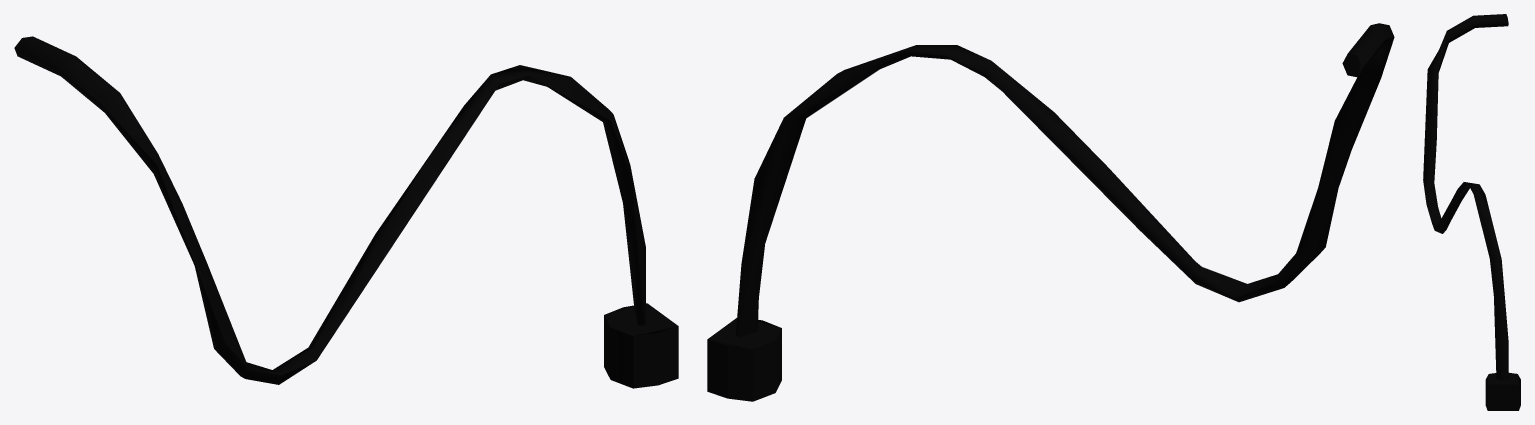
Rendered from powercord2_lod3.fbx.
The picture shows the model from 3 angles, left to right: view 1: azimuth 30°, elevation 25°; view 2: azimuth 150°, elevation 25°; view 3: azimuth 270°, elevation 25°; orthographic projection. The views are drawn at different scales.
Parts seen in each view (by area): view 1: cord5, plug5; view 2: cord5, plug5; view 3: cord5, plug5.
Boxes of the visible parts, box(x1,y1,x2,y2) form: cord5: box(14, 36, 645, 384); plug5: box(604, 303, 678, 388); cord5: box(735, 23, 1394, 349); plug5: box(707, 318, 781, 401); cord5: box(1423, 14, 1508, 380); plug5: box(1485, 372, 1520, 410).
Size of the model in its own units: 1.58 by 1.13 by 0.4147.
